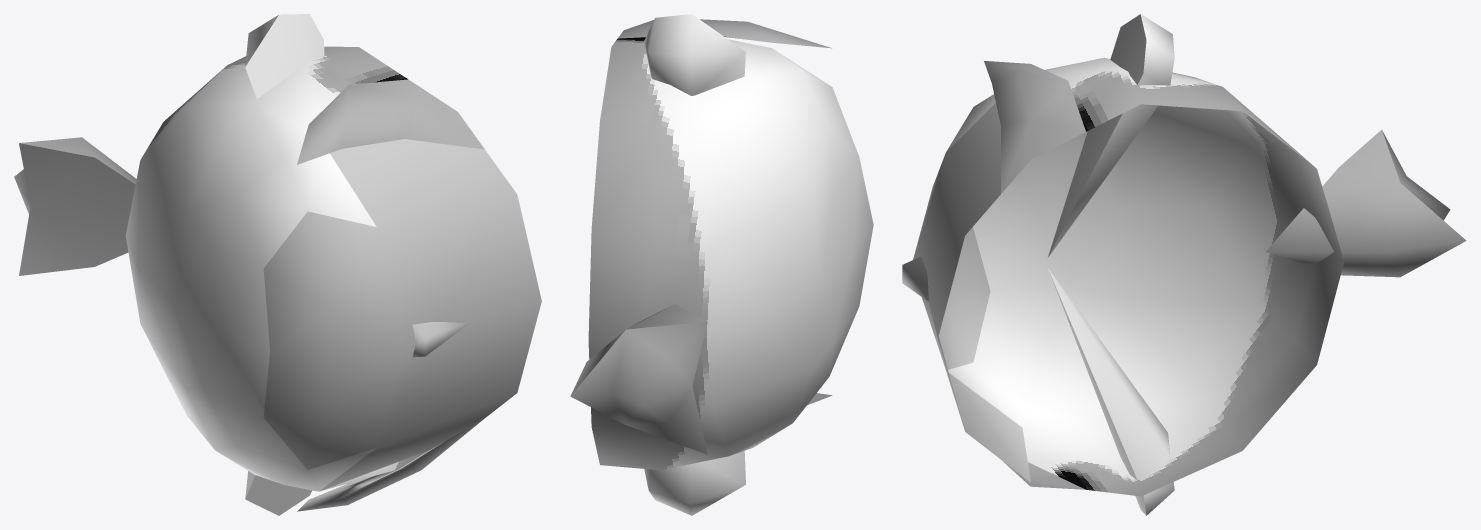
File: girl08b.dae
3 renders of one model, left to right at view 1: azimuth 30°, elevation 25°; view 2: azimuth 150°, elevation 25°; view 3: azimuth 270°, elevation 25°, orthographic.
Visible parts, largest first — view 1: vsn_mesh_1_, vsn_mesh_0_, vsn_mesh_2_; view 2: vsn_mesh_1_; view 3: vsn_mesh_1_, vsn_mesh_0_, vsn_mesh_2_.
Part boxes in pixels (bbox=[...]): vsn_mesh_1_: bbox=[14, 14, 484, 515]; vsn_mesh_0_: bbox=[319, 139, 541, 491]; vsn_mesh_2_: bbox=[263, 211, 403, 469]; vsn_mesh_1_: bbox=[570, 14, 873, 515]; vsn_mesh_1_: bbox=[946, 14, 1466, 515]; vsn_mesh_0_: bbox=[902, 103, 1030, 482]; vsn_mesh_2_: bbox=[913, 155, 990, 369].
Bounding box in the file's own units: 16.63 × 26.71 × 27.57.
Materials: 3 (1 with a texture image).
